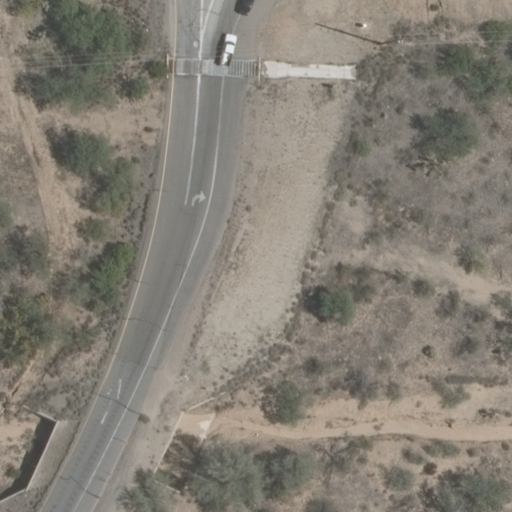DT: (371, 27, 410, 55)
